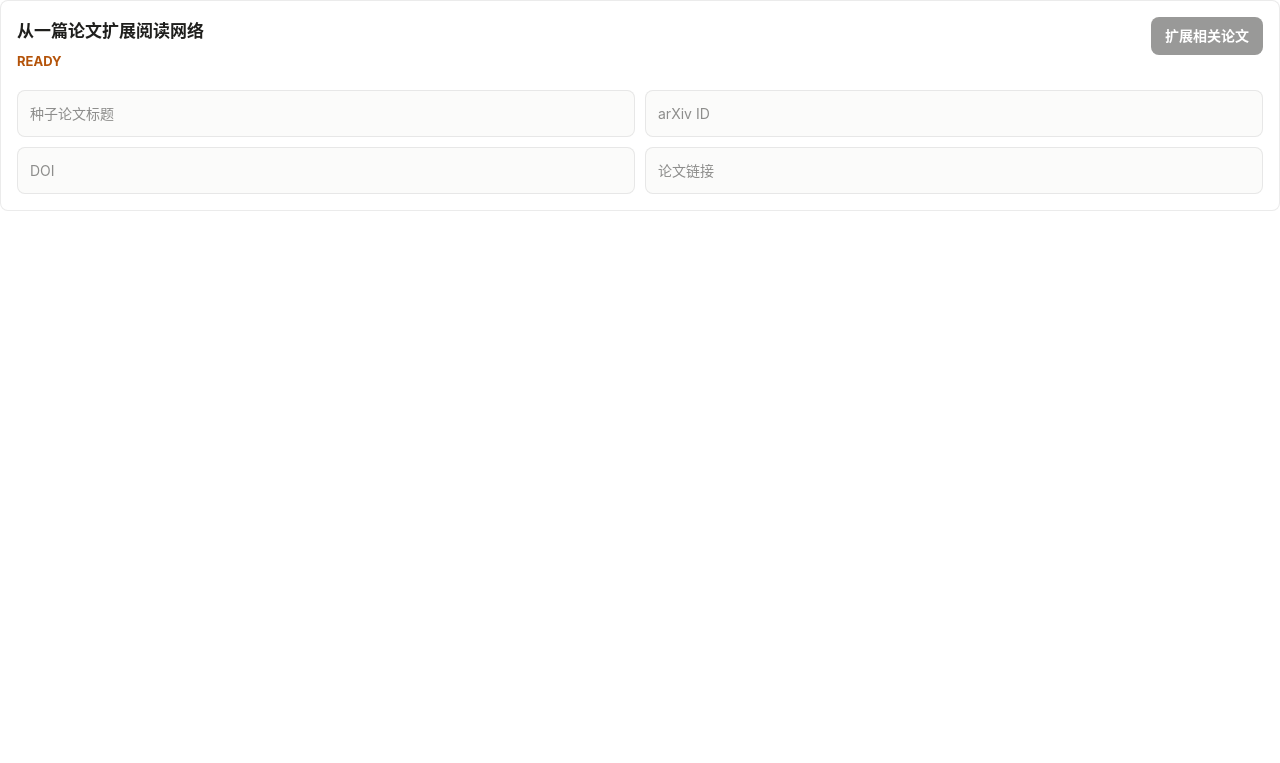
Test: SeedExpansionPanel › shows handoff failure reason
Type "Time Series Anomaly Detection" into the field with test id "seed-title-input" at point(326, 113), box [17, 90, 635, 137]
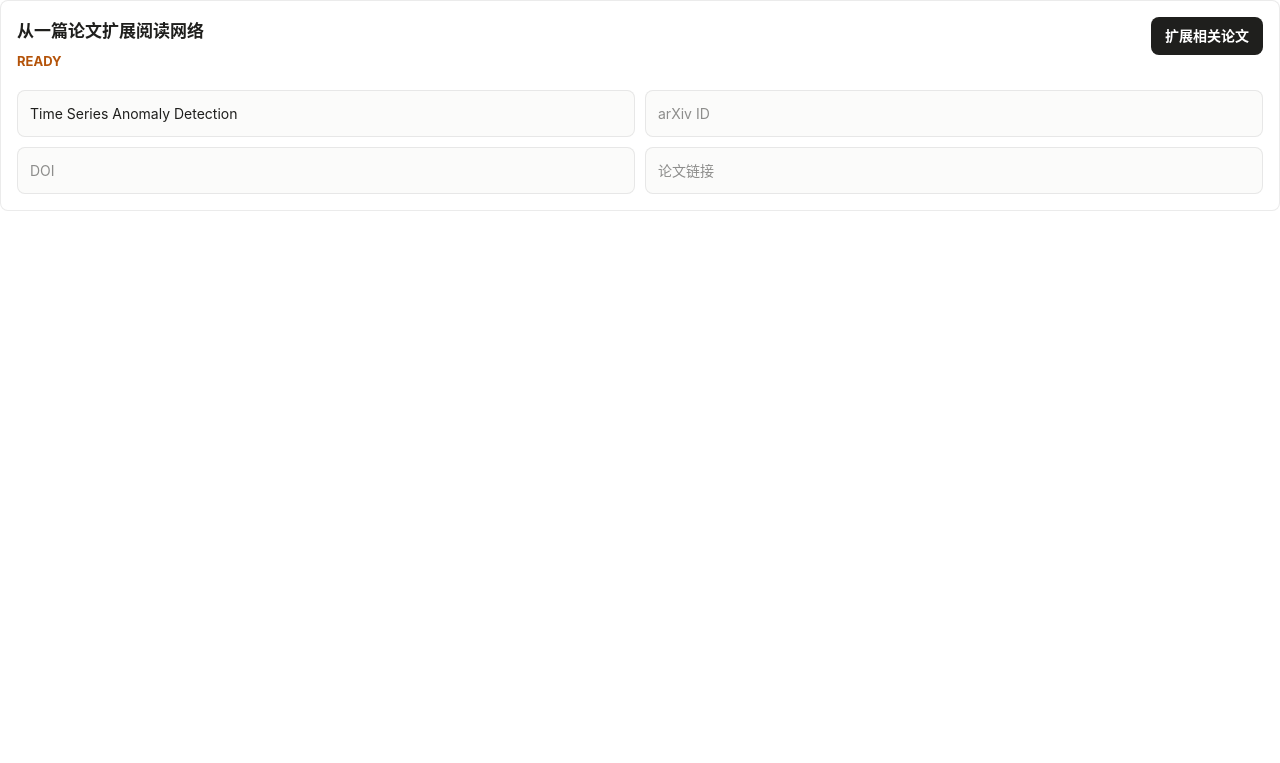
Click the button with test id "seed-expand-button" at point(1207, 36), box [1151, 17, 1263, 55]
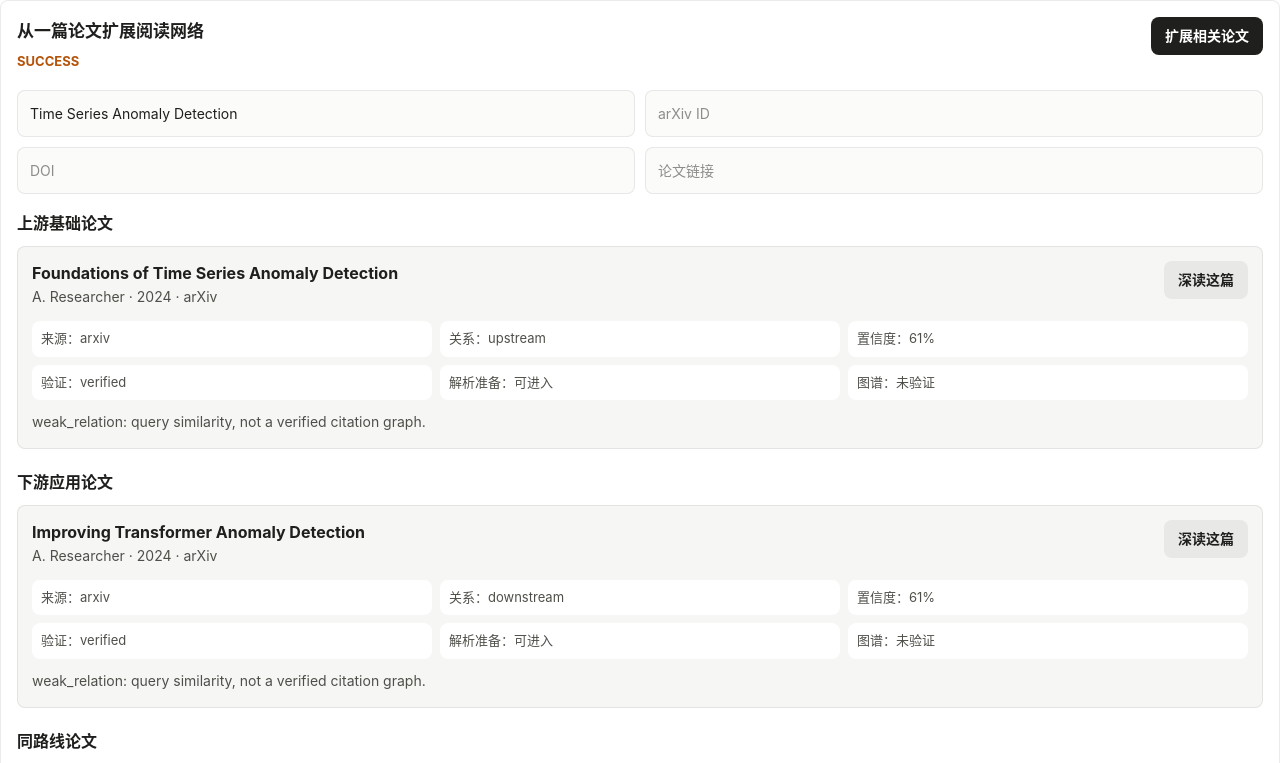
Click the 1st button with test id "seed-deep-read-button" at point(1206, 280), box [1164, 261, 1248, 299]
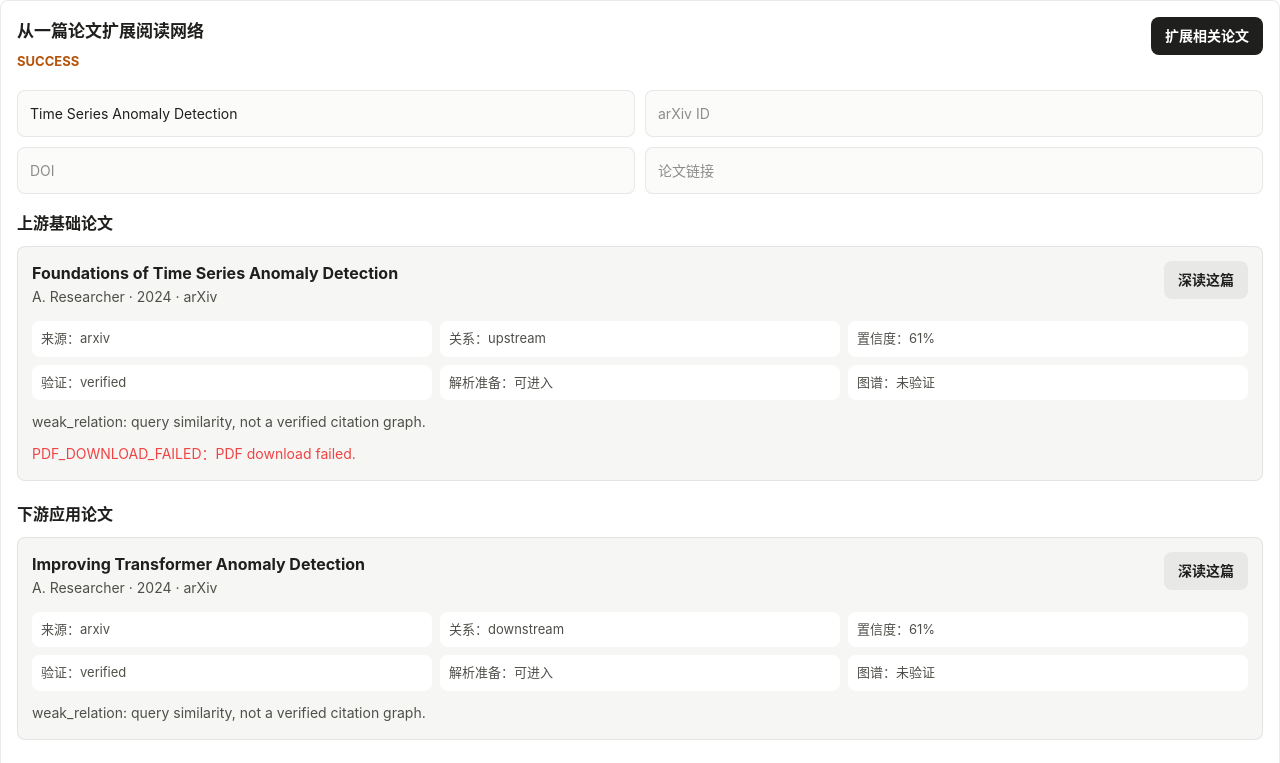
Check: the text with test id "seed-handoff-error" shows "PDF_DOWNLOAD_FAILED", box [32, 445, 356, 462]
